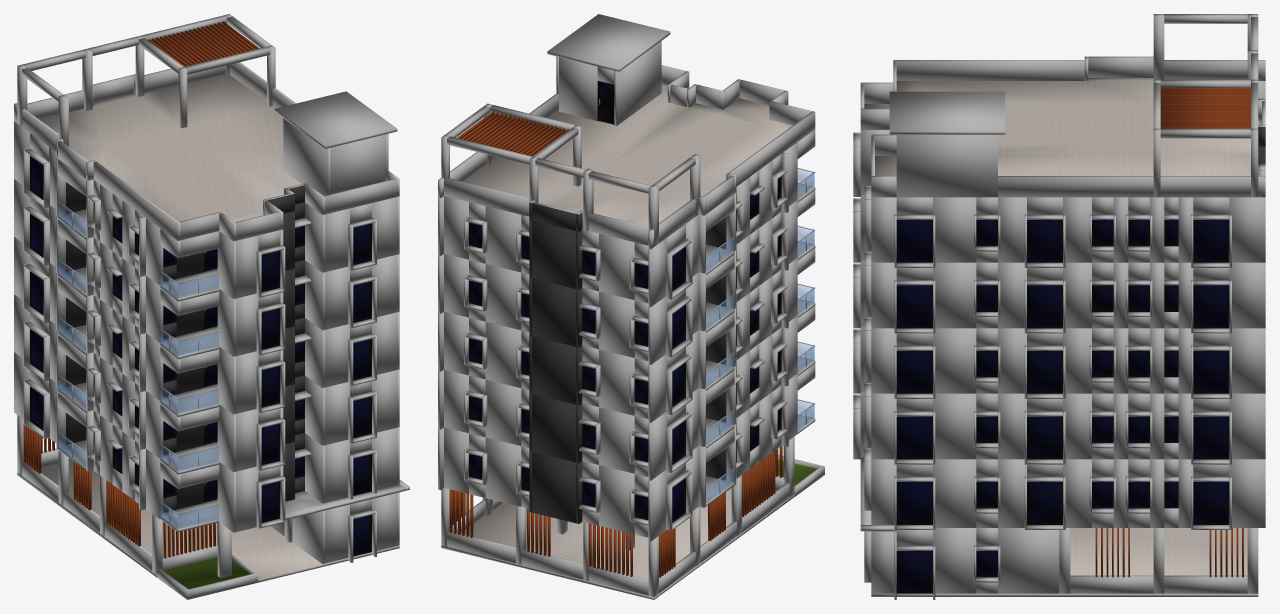
The model's file is edificio1.obj.
3 views of the same model, side by side, from view 1: azimuth 30°, elevation 25°; view 2: azimuth 150°, elevation 25°; view 3: azimuth 270°, elevation 25° (orthographic). The views are drawn at different scales.
Visible parts, largest first — view 1: WALL, ROOF_1, GROUND_FLOOR_1, BALCONY, LOUVER, WINDOW, DOOR, GROUND_FLOOR_2; view 2: WALL, ROOF_1, GROUND_FLOOR_1, LOUVER, WINDOW, BALCONY, ROOF_2; view 3: WALL, ROOF_1, WINDOW, GROUND_FLOOR_1, LOUVER, GROUND_FLOOR_2.
Boxes of the visible parts, left/top/right/bottom form: WALL: left=14, top=121, right=399, bottom=532; ROOF_1: left=14, top=62, right=399, bottom=241; GROUND_FLOOR_1: left=17, top=415, right=409, bottom=599; BALCONY: left=58, top=201, right=219, bottom=532; LOUVER: left=17, top=14, right=275, bottom=558; WINDOW: left=30, top=156, right=371, bottom=522; DOOR: left=204, top=249, right=217, bottom=502; GROUND_FLOOR_2: left=353, top=515, right=371, bottom=556; WALL: left=438, top=142, right=797, bottom=541; ROOF_1: left=438, top=14, right=815, bottom=249; GROUND_FLOOR_1: left=441, top=436, right=824, bottom=599; LOUVER: left=441, top=103, right=784, bottom=577; WINDOW: left=469, top=177, right=781, bottom=522; BALCONY: left=706, top=129, right=815, bottom=506; ROOF_2: left=597, top=81, right=614, bottom=124; WALL: left=853, top=81, right=1265, bottom=531; ROOF_1: left=860, top=56, right=1265, bottom=197; WINDOW: left=896, top=220, right=1229, bottom=524; GROUND_FLOOR_1: left=860, top=457, right=1258, bottom=599; LOUVER: left=1095, top=14, right=1258, bottom=577; GROUND_FLOOR_2: left=896, top=551, right=997, bottom=593.
Size of the model in its own units: 486 by 858 by 684.
10 materials, 4 textured.
